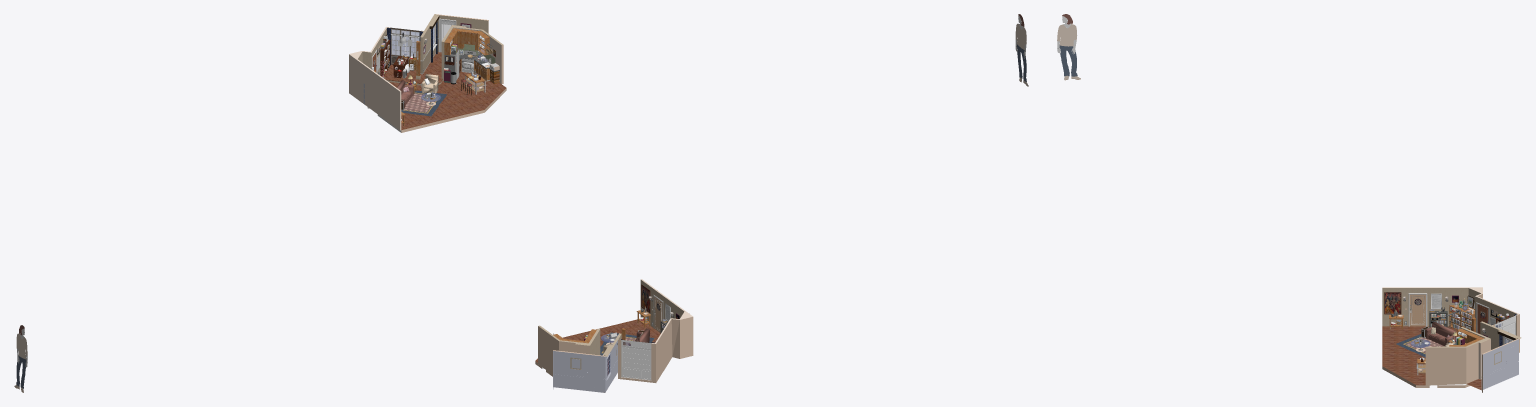
Rendered from home.glb.
3 renders of one model, left to right at view 1: azimuth 30°, elevation 25°; view 2: azimuth 210°, elevation 25°; view 3: azimuth 270°, elevation 25°, orthographic.
Parts seen in each view (by area): view 1: Material3 (×4), Material2 (×2); view 2: Material3 (×3), Material2; view 3: Material3 (×6), Material2.
Part boxes in pixels (x1,y1,x2,y2): Material3 (×4): (14,14,506,392); Material2 (×2): (15,22,501,392); Material3 (×3): (535,80,1028,382); Material2: (542,23,1028,392); Material3 (×6): (1062,14,1521,392); Material2: (1057,24,1519,389).
Bounding box in the file's own units: 31.7 × 3 × 19.09.
Materials: 57 (57 with a texture image).
